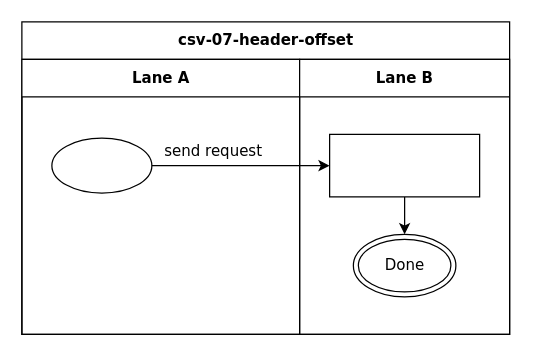
Image size: 533x356. Some labels were removed from this diagram. Here are the shapes that lost their labels. From the top down, the centre of each, then its label:
At (x=101, y=165): "Start".
At (x=404, y=165): "Process".
